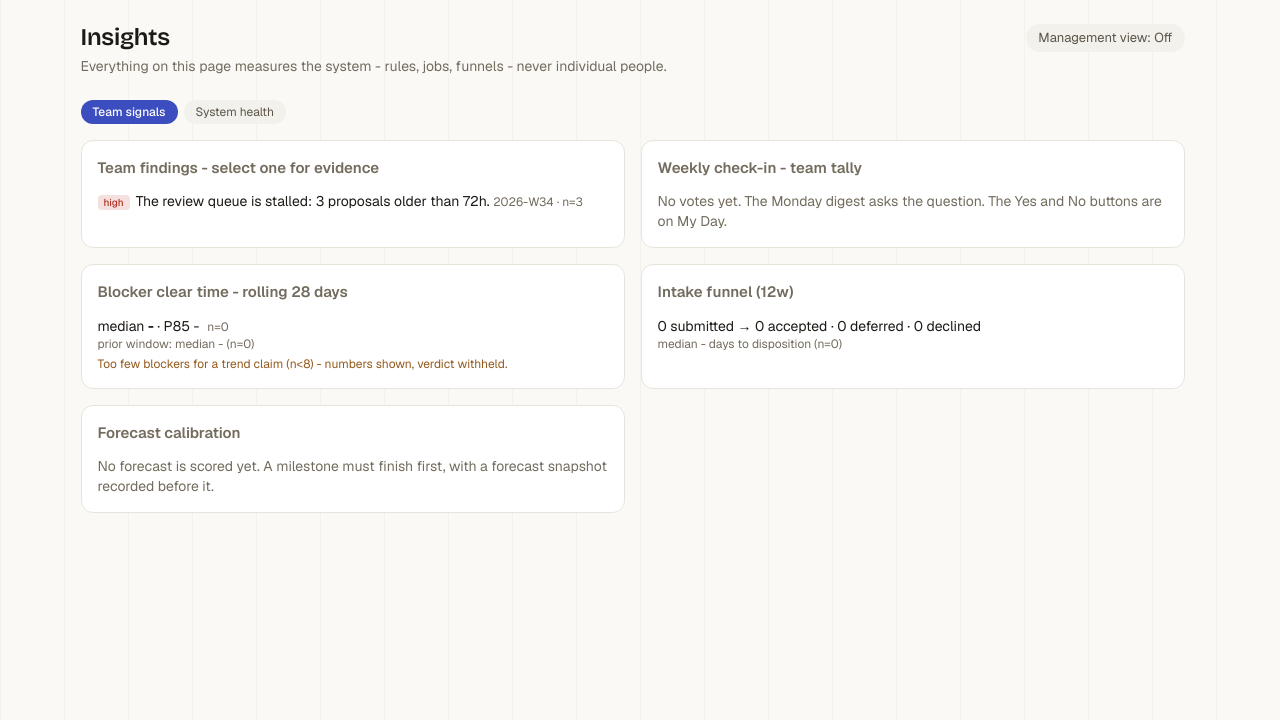
Scenario: a finding's evidence panel › renders stored rows as reading lines, never as JSON
This screenshot has width=1280, height=720.
What coordinates should you click on to do the following:
click the button "review queue is stalled"
I would click on:
 (340, 201)
Its box is [98,191,583,211].
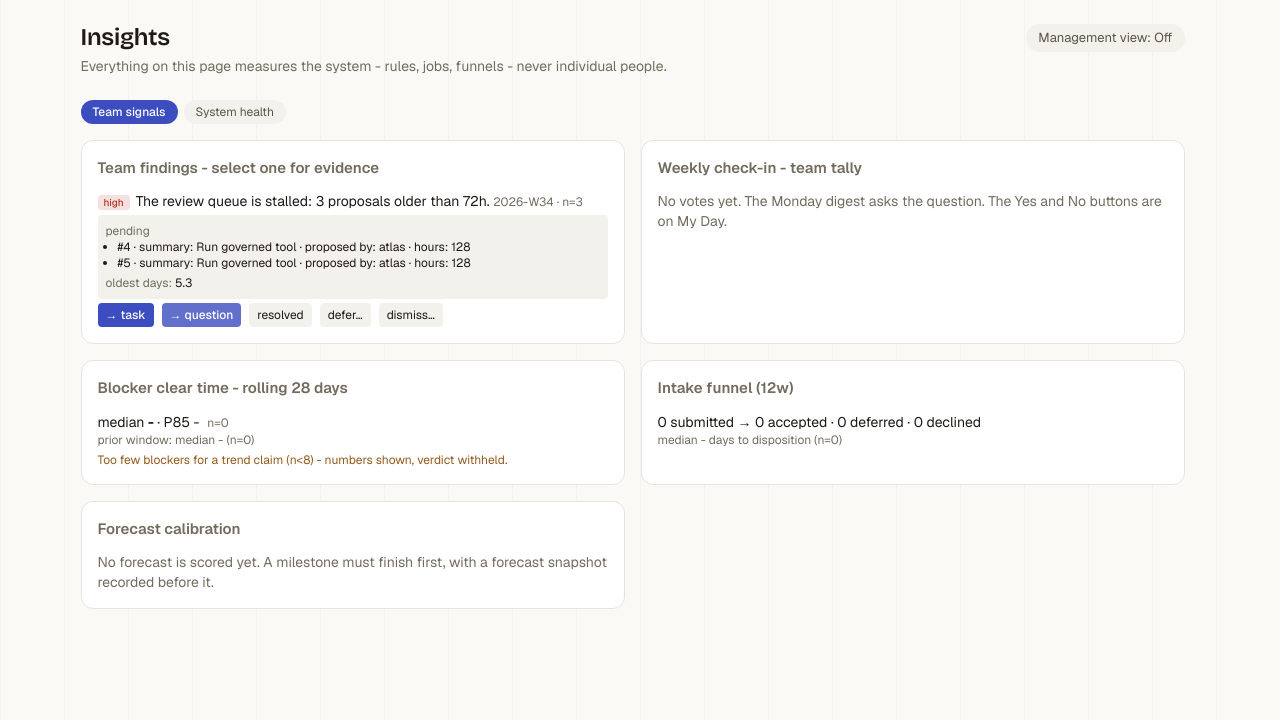
expect the list item "#4 · summary: Run governed tool · proposed by: atlas · hours: 128" is shown: met, box [118,239,470,255]
expect the text "oldest days: 5.3" is shown: met, box [106,275,192,291]
